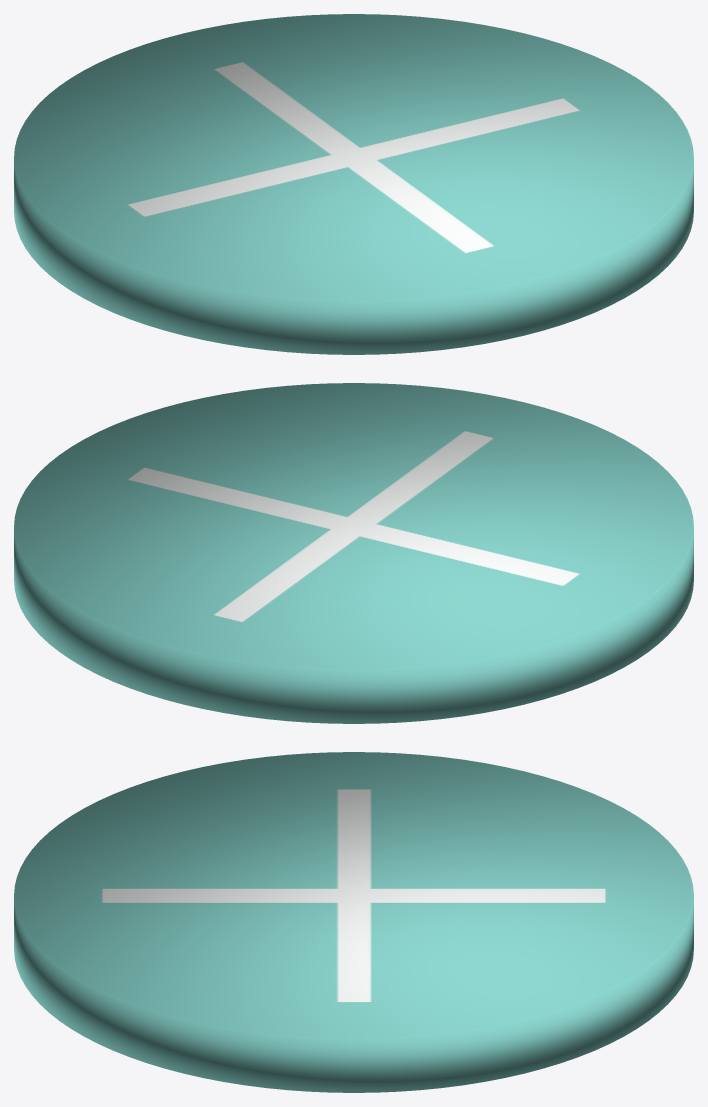
Rendered from back_circle.glb.
The picture shows the model from 3 angles, top to bottom: view 1: azimuth 30°, elevation 25°; view 2: azimuth 150°, elevation 25°; view 3: azimuth 270°, elevation 25°; orthographic projection.
Parts seen in each view (by area): view 1: back_circle; view 2: back_circle; view 3: back_circle.
Part boxes in pixels (x1,y1,x2,y2): back_circle: [14, 14, 693, 354]; back_circle: [14, 383, 693, 723]; back_circle: [14, 752, 693, 1092].
Bounding box in the file's own units: 0.0276 × 0.0024 × 0.0276.
Materials: 2 (1 with a texture image).
